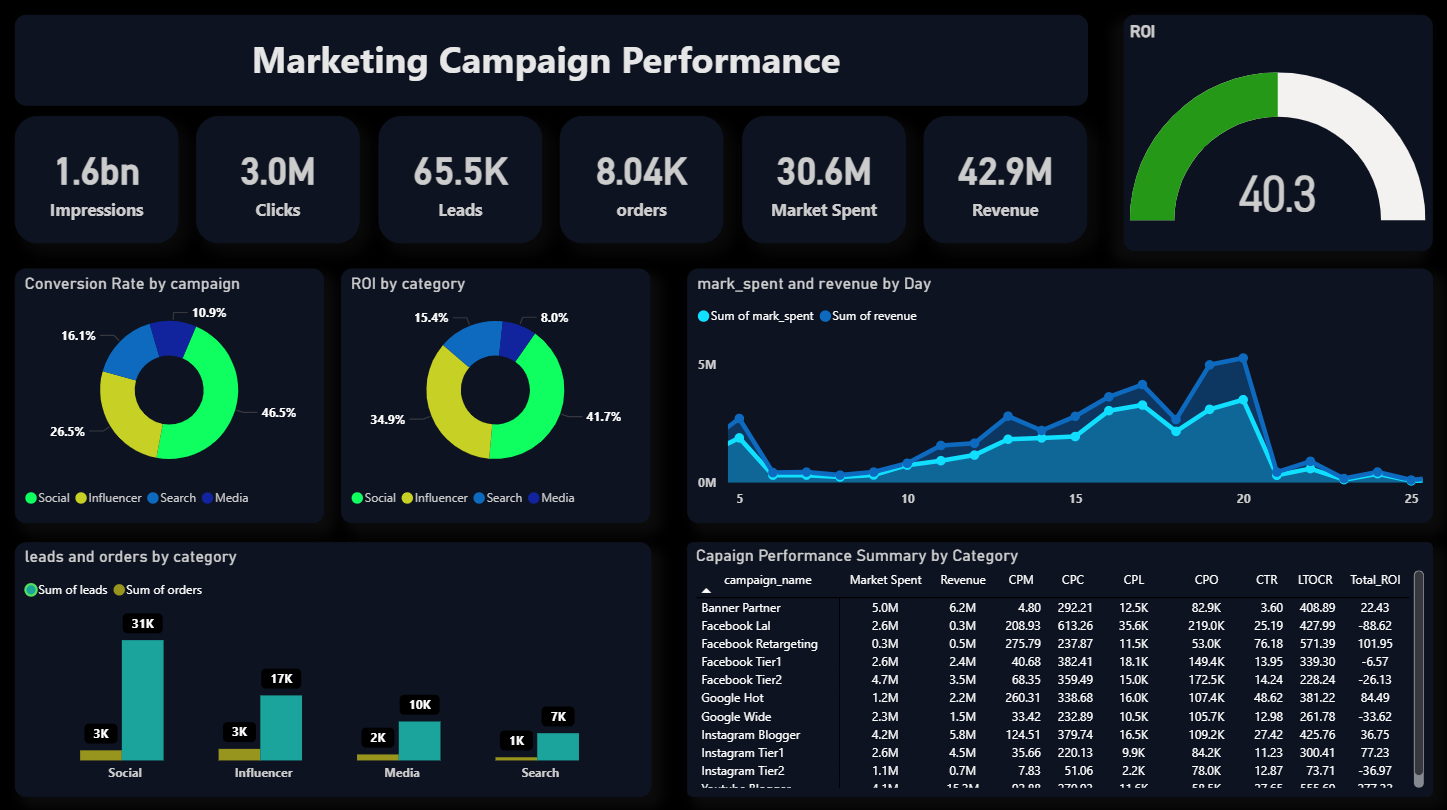

The page's visual inventory and layout, read from the dashboard file:
{"tool":"powerbi","page":{"name":"Page 2","canvas":[1280,720],"ordinal":0},"visuals":[{"type":"donutChart","title":"ROI by category","fields":{"Category":["Marketing.category"],"Y":["Sum(Marketing.ROI)"]},"box":[304,239.5,272,224],"z":0},{"type":"donutChart","title":"Conversion Rate by campaign","fields":{"Category":["Marketing.category"],"Y":["Sum(Marketing.Conversion Rate)"]},"box":[16,239.5,272,224],"z":1000},{"type":"pivotTable","title":"Capaign Performance Summary by Category","fields":{"Rows":["Marketing.campaign_name"],"Values":["Table.Market Spent","Table.Revenue","Marketing.CPM","Table.CPC","Table.CPL","Table.CPO","Table.CTR","Table.LTOCR","Table.Total_ROI"]},"box":[608,480,656,224],"z":2000},{"type":"clusteredColumnChart","title":"leads and orders by category","fields":{"Category":["Marketing.category"],"Y":["Sum(Marketing.leads)","Sum(Marketing.orders)"]},"box":[16,480,560,224],"z":3000},{"type":"card","fields":{"Values":["Marketing.Total orders"]},"box":[496.3,105.3,144,112],"z":4000},{"type":"gauge","title":"ROI","fields":{"Y":["Table.Total ROI"]},"box":[992,16,272,208],"z":5000},{"type":"card","fields":{"Values":["Marketing.Market Spent"]},"box":[656.3,105.3,144,112],"z":6000},{"type":"textbox","box":[16,16,944,80],"z":7000},{"type":"card","fields":{"Values":["Marketing.Total Revenue"]},"box":[816.3,105.3,144,112],"z":8000},{"type":"card","title":"improgain","fields":{"Values":["Marketing.Total Impressions"]},"box":[16.3,105.3,144,112],"z":9000},{"type":"lineChart","title":"mark_spent and revenue by Day","fields":{"Category":["Marketing.c_date.Variation.Date Hierarchy.Day"],"Y":["Sum(Marketing.mark_spent)","Sum(Marketing.revenue)"]},"box":[608,239.5,656,224],"z":10000},{"type":"card","fields":{"Values":["Marketing.Total Clicks"]},"box":[176.3,105.3,144,112],"z":11000},{"type":"card","fields":{"Values":["Table.Leads"]},"box":[336.3,105.3,144,112],"z":12000}]}

Visuals, with their boxes in screenshot pixels (x1, y1, x2, y2), scaled from the page's 1280x720 canvas onto the 1447x810 screenshot:
"ROI by category" donutChart: <region>344, 269, 651, 521</region>
"Conversion Rate by campaign" donutChart: <region>18, 269, 326, 521</region>
"Capaign Performance Summary by Category" pivotTable: <region>687, 540, 1429, 792</region>
"leads and orders by category" clusteredColumnChart: <region>18, 540, 651, 792</region>
card - Marketing.Total orders: <region>561, 118, 724, 244</region>
"ROI" gauge: <region>1121, 18, 1429, 252</region>
card - Marketing.Market Spent: <region>742, 118, 905, 244</region>
textbox: <region>18, 18, 1085, 108</region>
card - Marketing.Total Revenue: <region>923, 118, 1086, 244</region>
"improgain" card: <region>18, 118, 181, 244</region>
"mark_spent and revenue by Day" lineChart: <region>687, 269, 1429, 521</region>
card - Marketing.Total Clicks: <region>199, 118, 362, 244</region>
card - Table.Leads: <region>380, 118, 543, 244</region>
